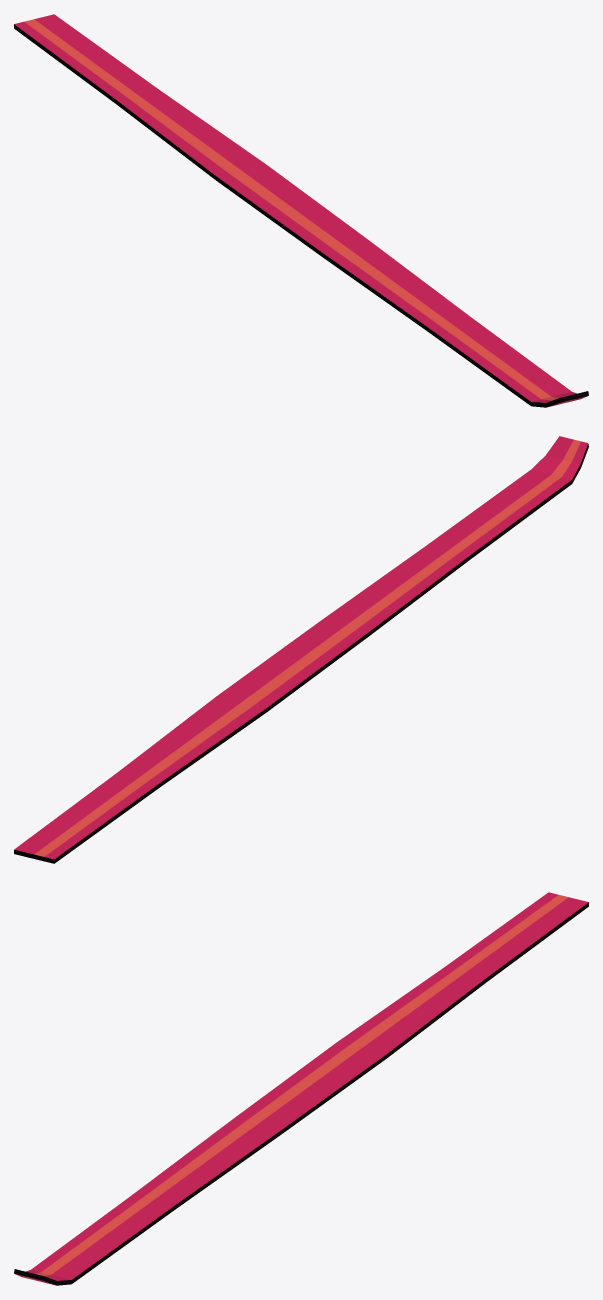
File: Skier_1_Ski_Right.fbx
The picture shows the model from 3 angles, top to bottom: view 1: azimuth 30°, elevation 25°; view 2: azimuth 150°, elevation 25°; view 3: azimuth 330°, elevation 25°; orthographic projection.
Parts seen in each view (by area): view 1: Skier_1_Ski_Right; view 2: Skier_1_Ski_Right; view 3: Skier_1_Ski_Right.
Part boxes in pixels (x1,y1,x2,y2): Skier_1_Ski_Right: (14, 14, 588, 407); Skier_1_Ski_Right: (14, 436, 588, 863); Skier_1_Ski_Right: (14, 892, 588, 1285).
Size of the model in its own units: 11.33 by 5.29 by 214.
